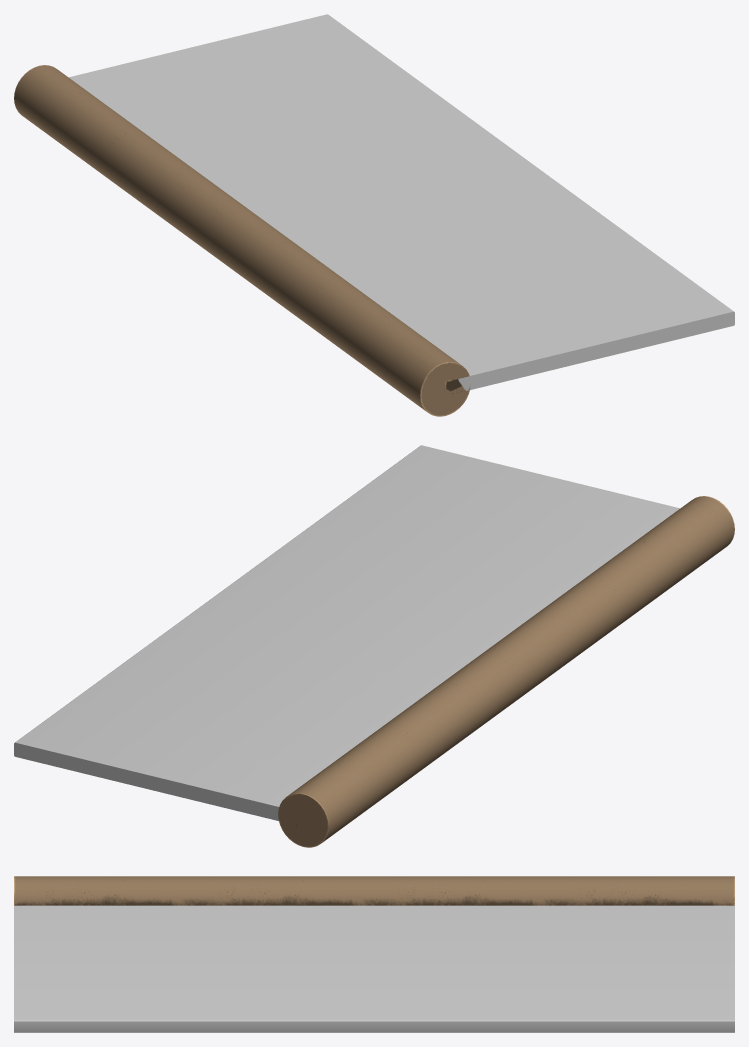
File: SM_Vintage_Bar_Shelf_01.fbx
The picture shows the model from 3 angles, top to bottom: view 1: azimuth 30°, elevation 25°; view 2: azimuth 150°, elevation 25°; view 3: azimuth 270°, elevation 25°; orthographic projection. The views are drawn at different scales.
Parts seen in each view (by area): view 1: SM_Vintage_Bar_Shelf_01; view 2: SM_Vintage_Bar_Shelf_01; view 3: SM_Vintage_Bar_Shelf_01.
Part boxes in pixels (x1=…): SM_Vintage_Bar_Shelf_01: x1=14, y1=14, x2=734, y2=416; SM_Vintage_Bar_Shelf_01: x1=14, y1=445, x2=734, y2=847; SM_Vintage_Bar_Shelf_01: x1=14, y1=876, x2=734, y2=1032.
Bounding box in the file's own units: 21.36 × 47.78 × 3.43.
